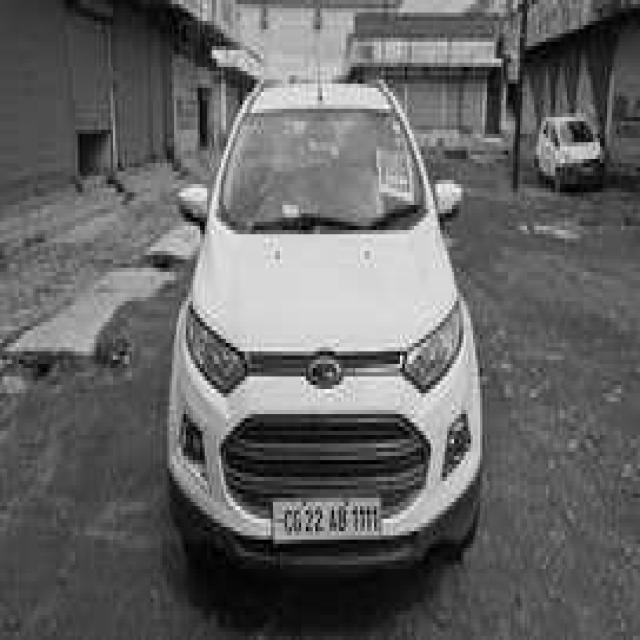car: (172, 62, 482, 586), (534, 109, 610, 184)
license-plate: (271, 498, 384, 540)
